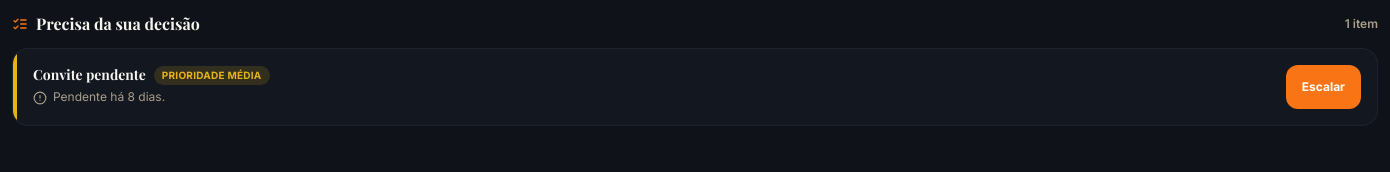
Test case: DecisionQueue com ações que alteram dados › distingue permissão negada de falha técnica
Click the button with test id "decision-mutation-button".
click(1323, 87)  # box [1286,65,1361,109]
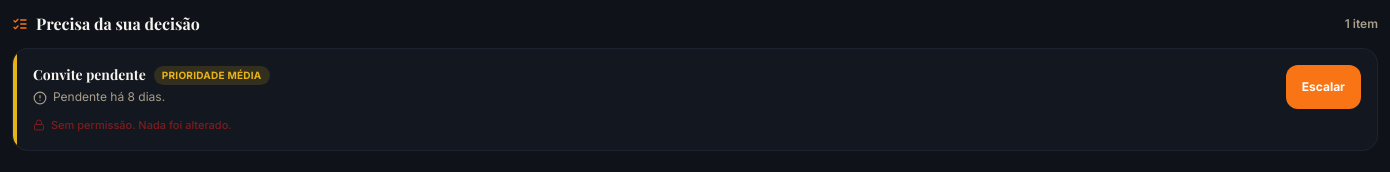
Expected: the message with test id "decision-outcome-denied" shows "Sem permissão", [51,118,232,132]
